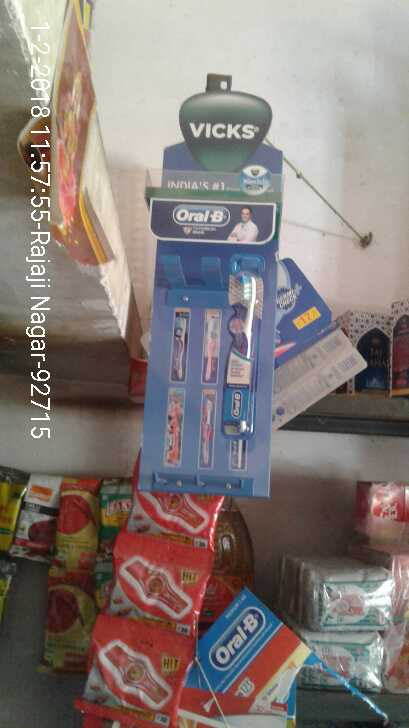oralb: (228, 254, 263, 469)
